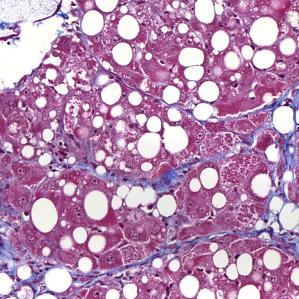fibrosis: (0, 241, 52, 286), (263, 132, 299, 191), (155, 157, 204, 194)
